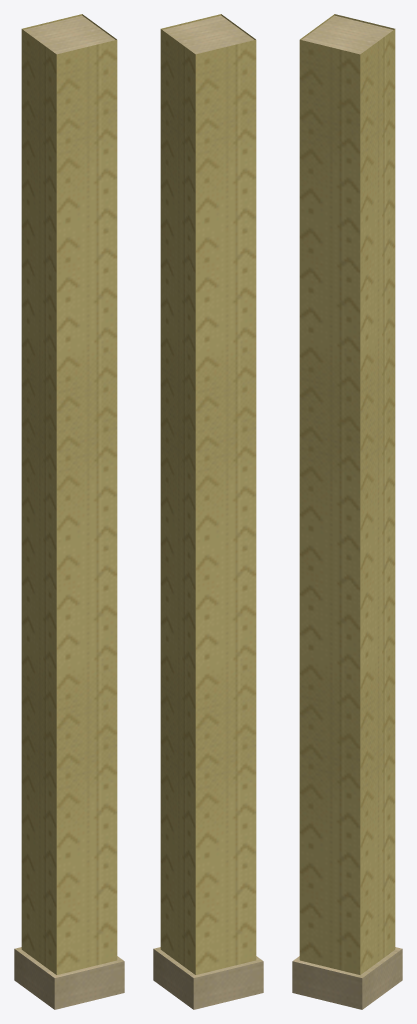
The model's file is back_corner.obj.
3 renders of one model, left to right at view 1: azimuth 30°, elevation 25°; view 2: azimuth 210°, elevation 25°; view 3: azimuth 330°, elevation 25°, orthographic.
Parts seen in each view (by area): view 1: back_corner_wall, back_corner_trim; view 2: back_corner_wall, back_corner_trim; view 3: back_corner_wall, back_corner_trim.
Part boxes in pixels (bbox=[...]): back_corner_wall: bbox=[21, 14, 117, 974]; back_corner_trim: bbox=[14, 15, 124, 1009]; back_corner_wall: bbox=[160, 14, 256, 974]; back_corner_trim: bbox=[153, 15, 263, 1009]; back_corner_wall: bbox=[299, 14, 395, 974]; back_corner_trim: bbox=[292, 15, 402, 1009].
Bounding box in the file's own units: 0.23 × 3 × 0.23.
2 materials, 2 textured.
